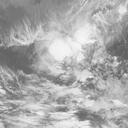cyclone: (34, 36, 89, 88)
